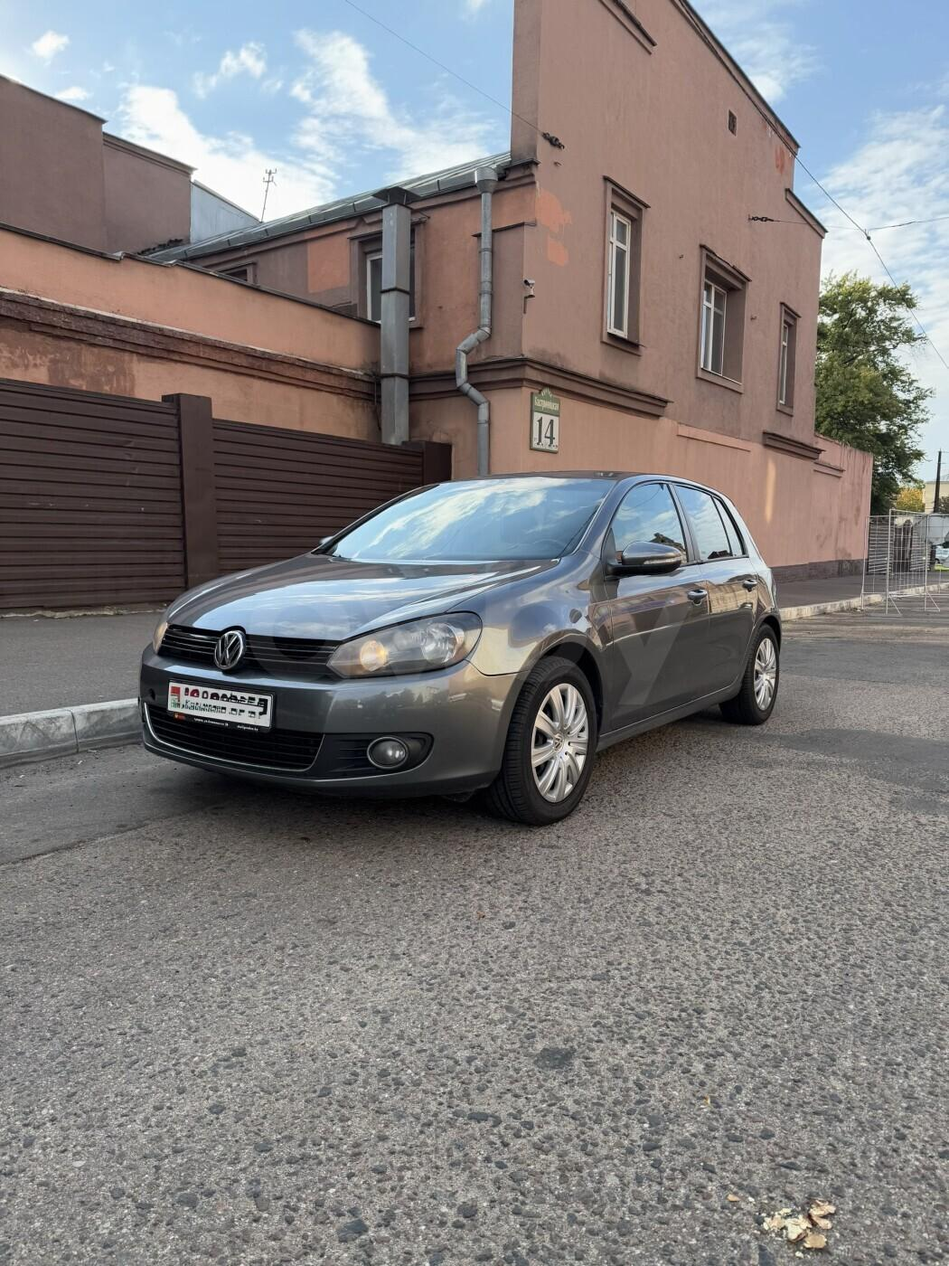Golf_2008-2013: (140, 466, 791, 819)
